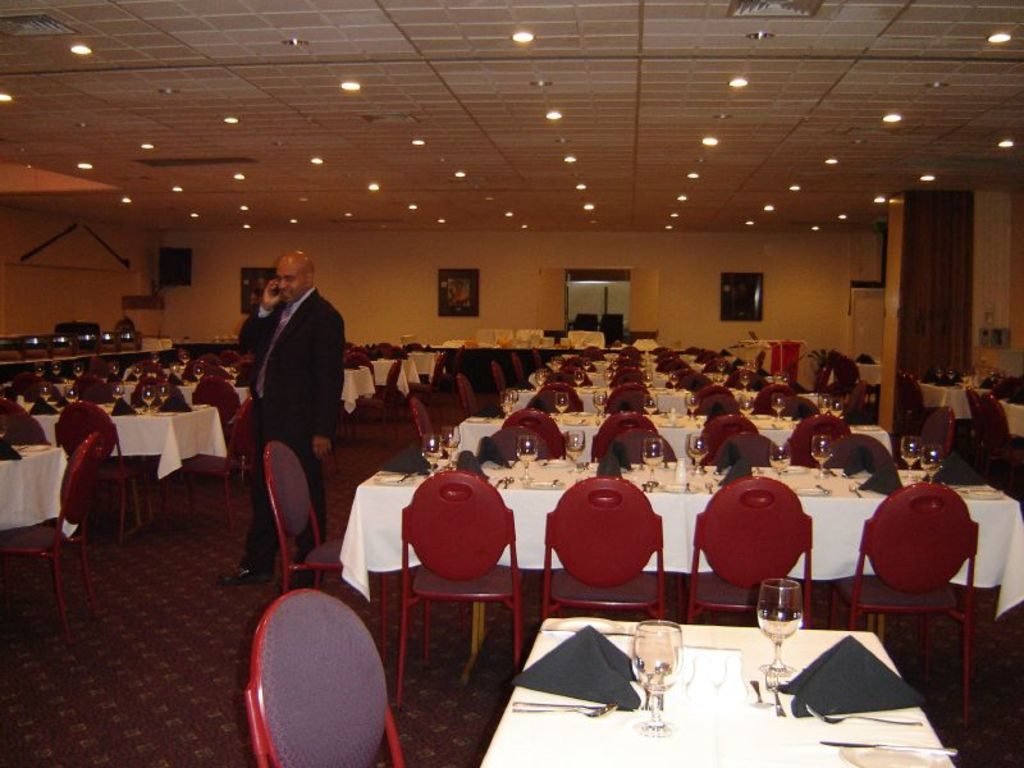Table: (338, 472, 1023, 685), (435, 590, 975, 755), (29, 406, 227, 518), (445, 420, 896, 458), (0, 447, 67, 535)
